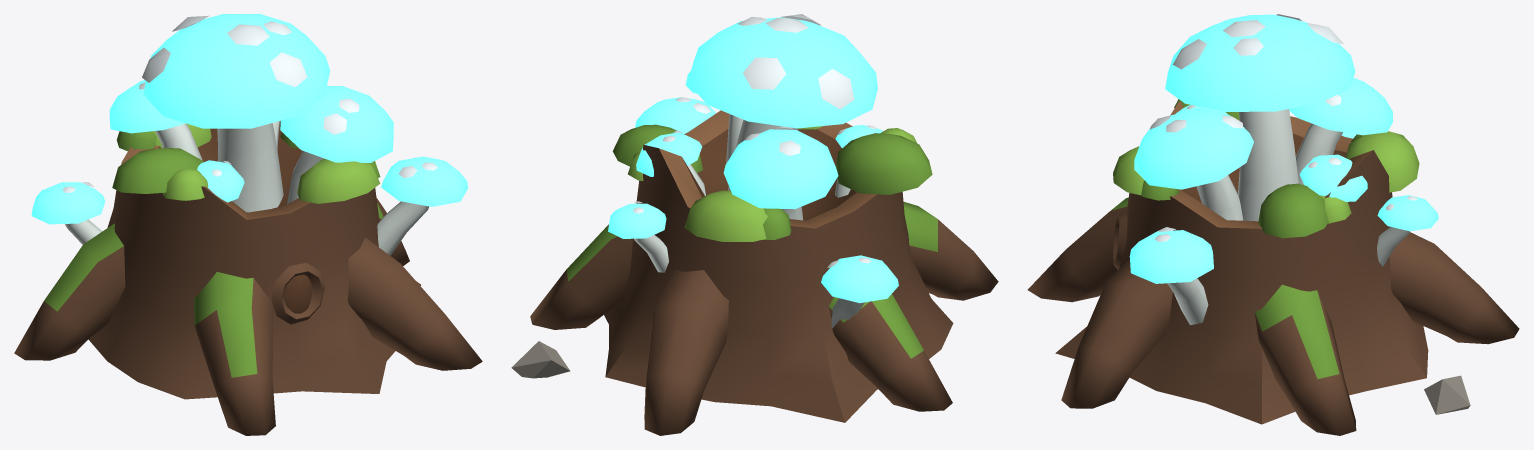
The model's file is node_glowcap.glb.
3 renders of one model, left to right at view 1: azimuth 30°, elevation 25°; view 2: azimuth 150°, elevation 25°; view 3: azimuth 270°, elevation 25°, orthographic. The views are drawn at different scales.
Parts seen in each view (by area): view 1: Stump, Harvest; view 2: Stump, Harvest; view 3: Stump, Harvest.
Boxes of the visible parts, box(x1,y1,x2,y2) form: Stump: box(14, 121, 482, 435); Harvest: box(31, 14, 468, 255); Stump: box(511, 110, 998, 435); Harvest: box(608, 14, 898, 328); Stump: box(1027, 99, 1519, 435); Harvest: box(1129, 14, 1438, 325).
Size of what is drawn, in the model's own units: 1.14 by 0.8407 by 1.2.
